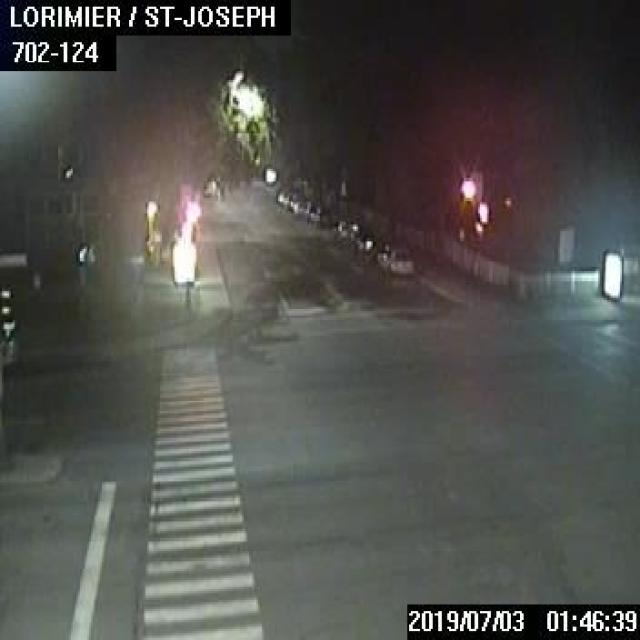vehicle: (375, 242, 413, 276), (355, 237, 377, 264), (334, 218, 356, 244), (305, 206, 330, 227), (292, 199, 308, 213)
